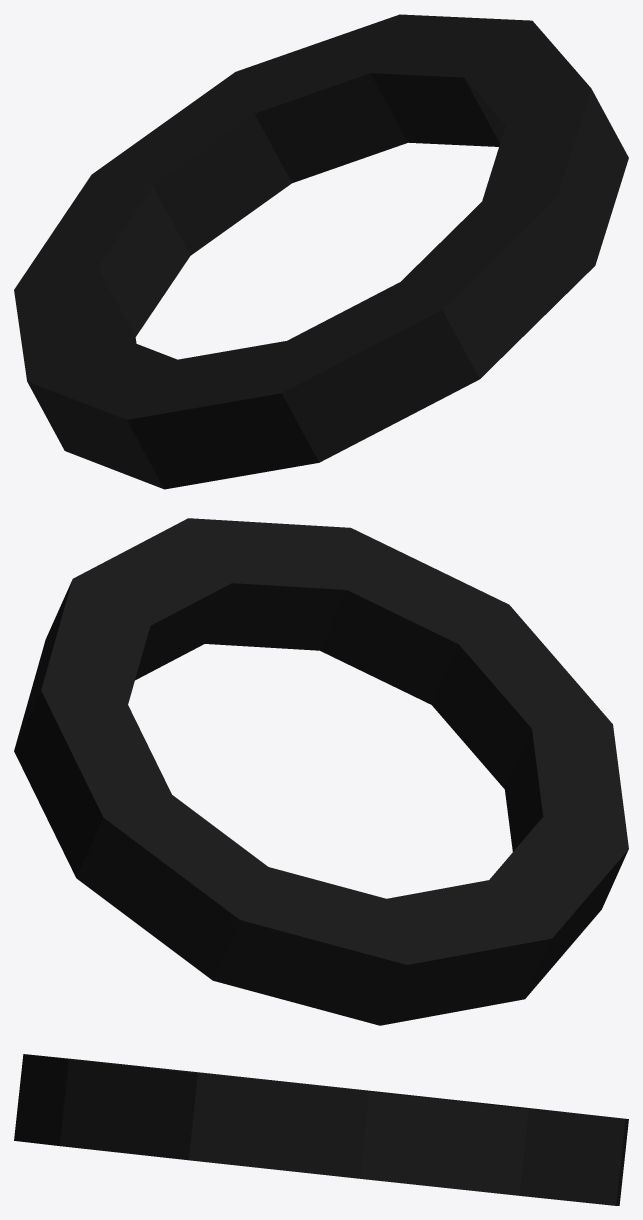
Rendered from angel-black.gltf.
3 views of the same model, one above another, from view 1: azimuth 30°, elevation 25°; view 2: azimuth 150°, elevation 25°; view 3: azimuth 270°, elevation 25° (orthographic). The views are drawn at different scales.
Visible parts, largest first — view 1: a2$$(1)-Local, a4-Local, a3-Local, a2$$(4)-Local, a5-Local, a2$$(2)-Local, Angel-Local, a2$$(3)-Local, a2-Local, a1-Local, a3$$(1)-Local; view 2: Angel-Local, a2$$(4)-Local, a4-Local, a5-Local, a1-Local, a2$$(2)-Local, a2$$(1)-Local, a3$$(1)-Local, a2-Local, a3-Local, a2$$(3)-Local; view 3: a3$$(1)-Local, a2$$(3)-Local, a2$$(2)-Local, a5-Local, a4-Local, a2$$(4)-Local.
Boxes of the visible parts, x1,y1,x2,y2 form: a2$$(1)-Local: (263, 270, 479, 462); a4-Local: (385, 190, 595, 378); a3-Local: (127, 341, 318, 489); a2$$(4)-Local: (92, 72, 291, 255); a5-Local: (230, 14, 407, 183); a2$$(2)-Local: (477, 88, 628, 265); Angel-Local: (14, 169, 190, 336); a2$$(3)-Local: (351, 14, 531, 146); a2-Local: (27, 332, 191, 489); a1-Local: (14, 254, 136, 380); a3$$(1)-Local: (456, 21, 590, 143); Angel-Local: (213, 860, 410, 1025); a2$$(4)-Local: (76, 780, 287, 980); a4-Local: (320, 528, 508, 704); a5-Local: (14, 686, 180, 877); a1-Local: (371, 877, 551, 1025); a2$$(2)-Local: (188, 518, 367, 650); a2$$(1)-Local: (432, 605, 612, 789); a3$$(1)-Local: (73, 518, 247, 680); a2-Local: (478, 803, 628, 998); a3-Local: (505, 710, 628, 851); a2$$(3)-Local: (14, 579, 150, 749); a3$$(1)-Local: (188, 1073, 378, 1178); a2$$(3)-Local: (360, 1092, 528, 1195); a2$$(2)-Local: (59, 1059, 209, 1160); a5-Local: (469, 1102, 625, 1205); a4-Local: (14, 1054, 134, 1145); a2$$(4)-Local: (539, 1109, 628, 1205).
Bounding box in the file's own units: 6.78 × 3.93 × 7.04.
11 materials, 11 textured.
